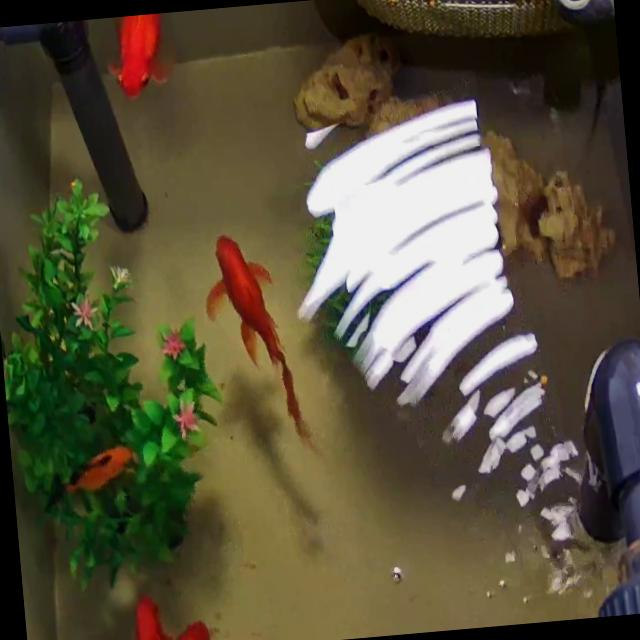fish: (202, 225, 317, 453), (53, 595, 213, 640), (102, 12, 171, 102), (111, 586, 198, 640), (60, 444, 138, 495)
